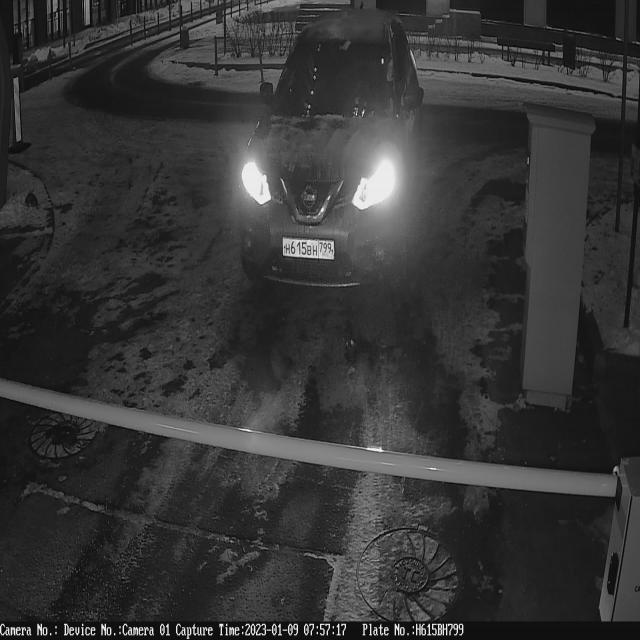car-plate-numbers: (281, 231, 339, 266)
